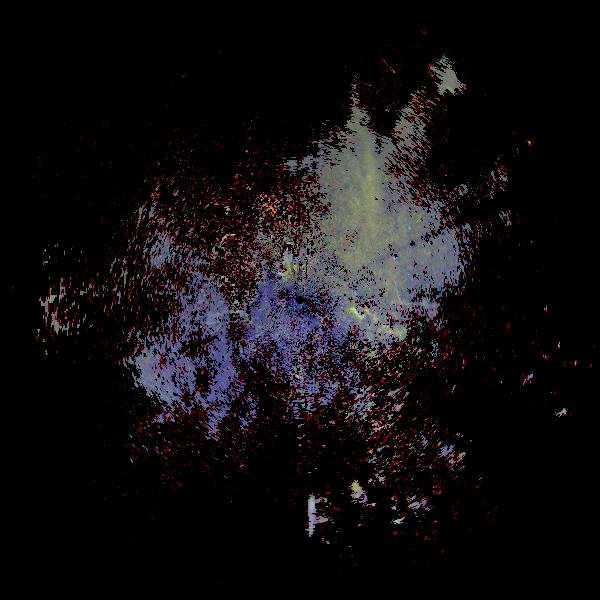roost: (346, 303, 361, 318), (295, 368, 310, 383)
